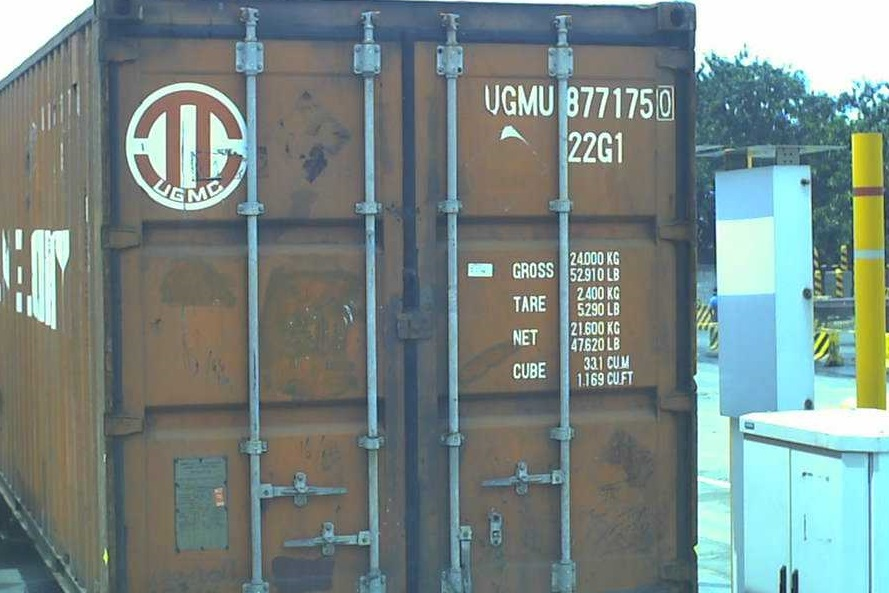container_door: (97, 1, 706, 592)
